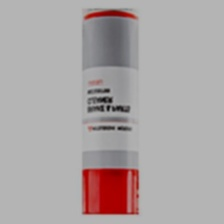aerosol_cans: (78, 8, 141, 216)
